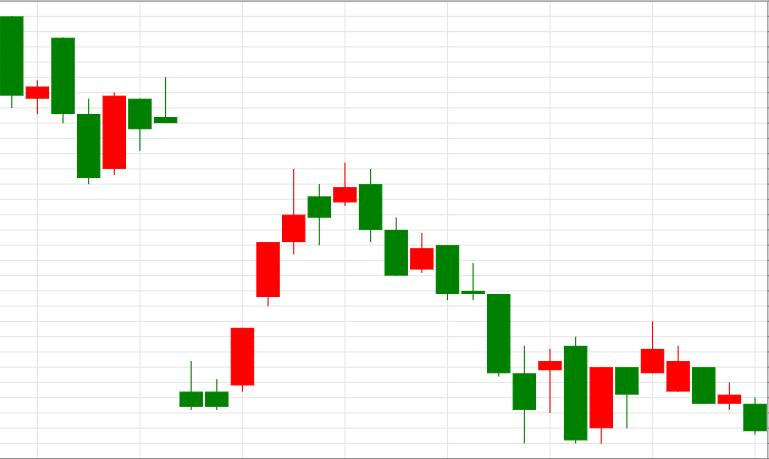inverse_hammer_rise: (205, 169, 306, 410)
three_white_soldiers_rise: (127, 76, 306, 410)
